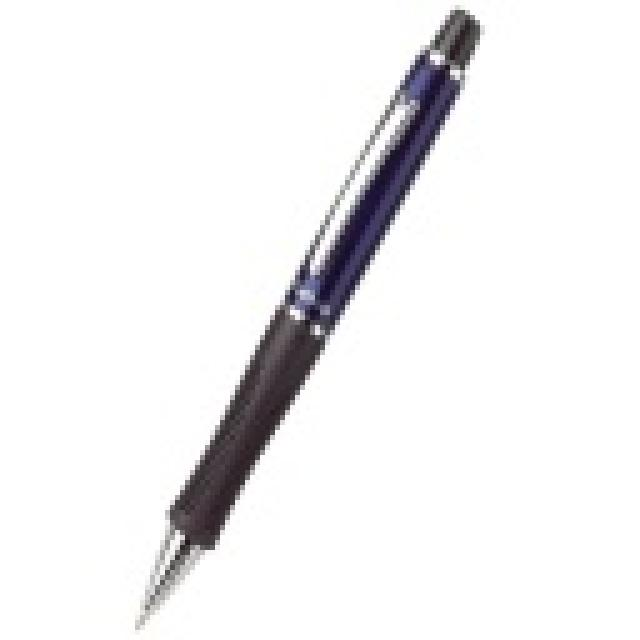pen: (117, 10, 494, 635)
